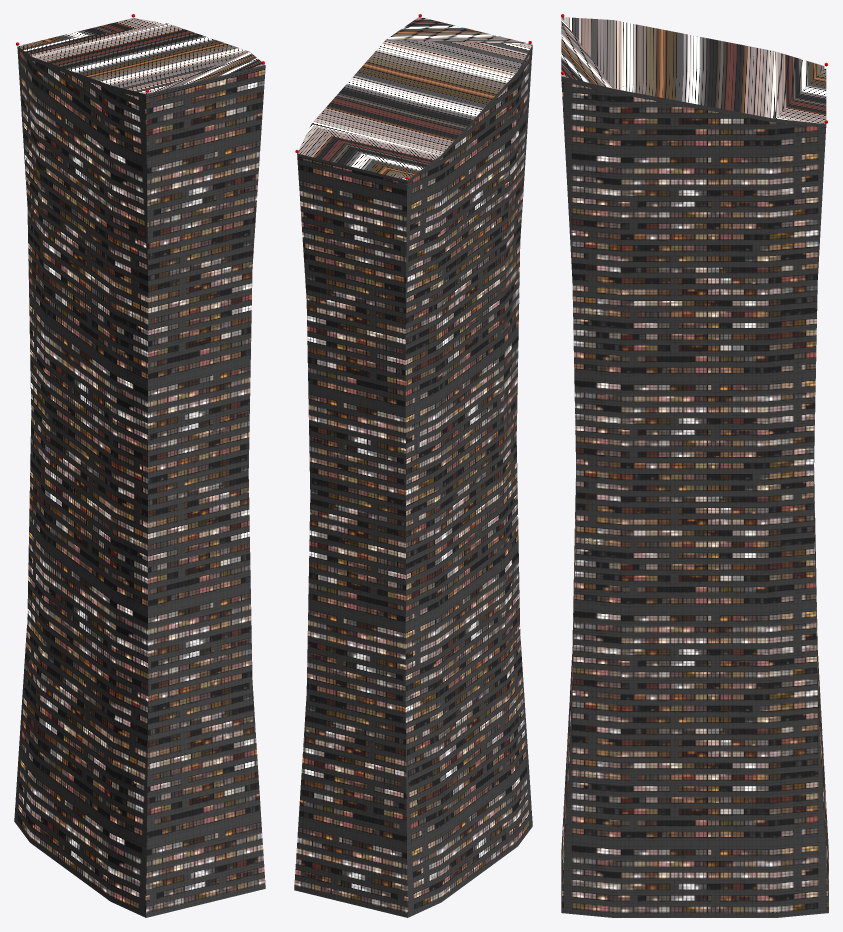
File: Mesh_NeonOffice-Curved.fbx
3 renders of one model, left to right at view 1: azimuth 30°, elevation 25°; view 2: azimuth 150°, elevation 25°; view 3: azimuth 270°, elevation 25°, orthographic. The views are drawn at different scales.
Visible parts, largest first — view 1: Mesh_NeonOffice-Curved; view 2: Mesh_NeonOffice-Curved; view 3: Mesh_NeonOffice-Curved.
Part boxes in pixels (x1,y1,x2,y2): Mesh_NeonOffice-Curved: (14, 14, 265, 917); Mesh_NeonOffice-Curved: (294, 14, 532, 917); Mesh_NeonOffice-Curved: (561, 14, 828, 917).
Size of the model in its own units: 25.78 by 146 by 42.23.
